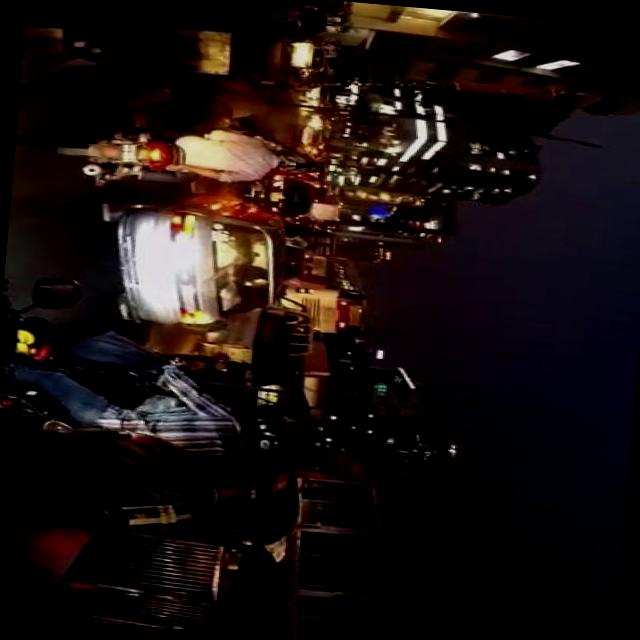bus: (264, 442, 418, 640), (286, 250, 376, 334), (301, 329, 376, 413)
car: (102, 182, 294, 332), (249, 170, 319, 220), (290, 38, 330, 76), (302, 80, 334, 110)
motorcycle: (0, 511, 295, 636), (154, 346, 313, 489), (0, 270, 86, 435), (54, 118, 192, 182), (207, 470, 300, 564)
truck: (198, 286, 318, 386)
